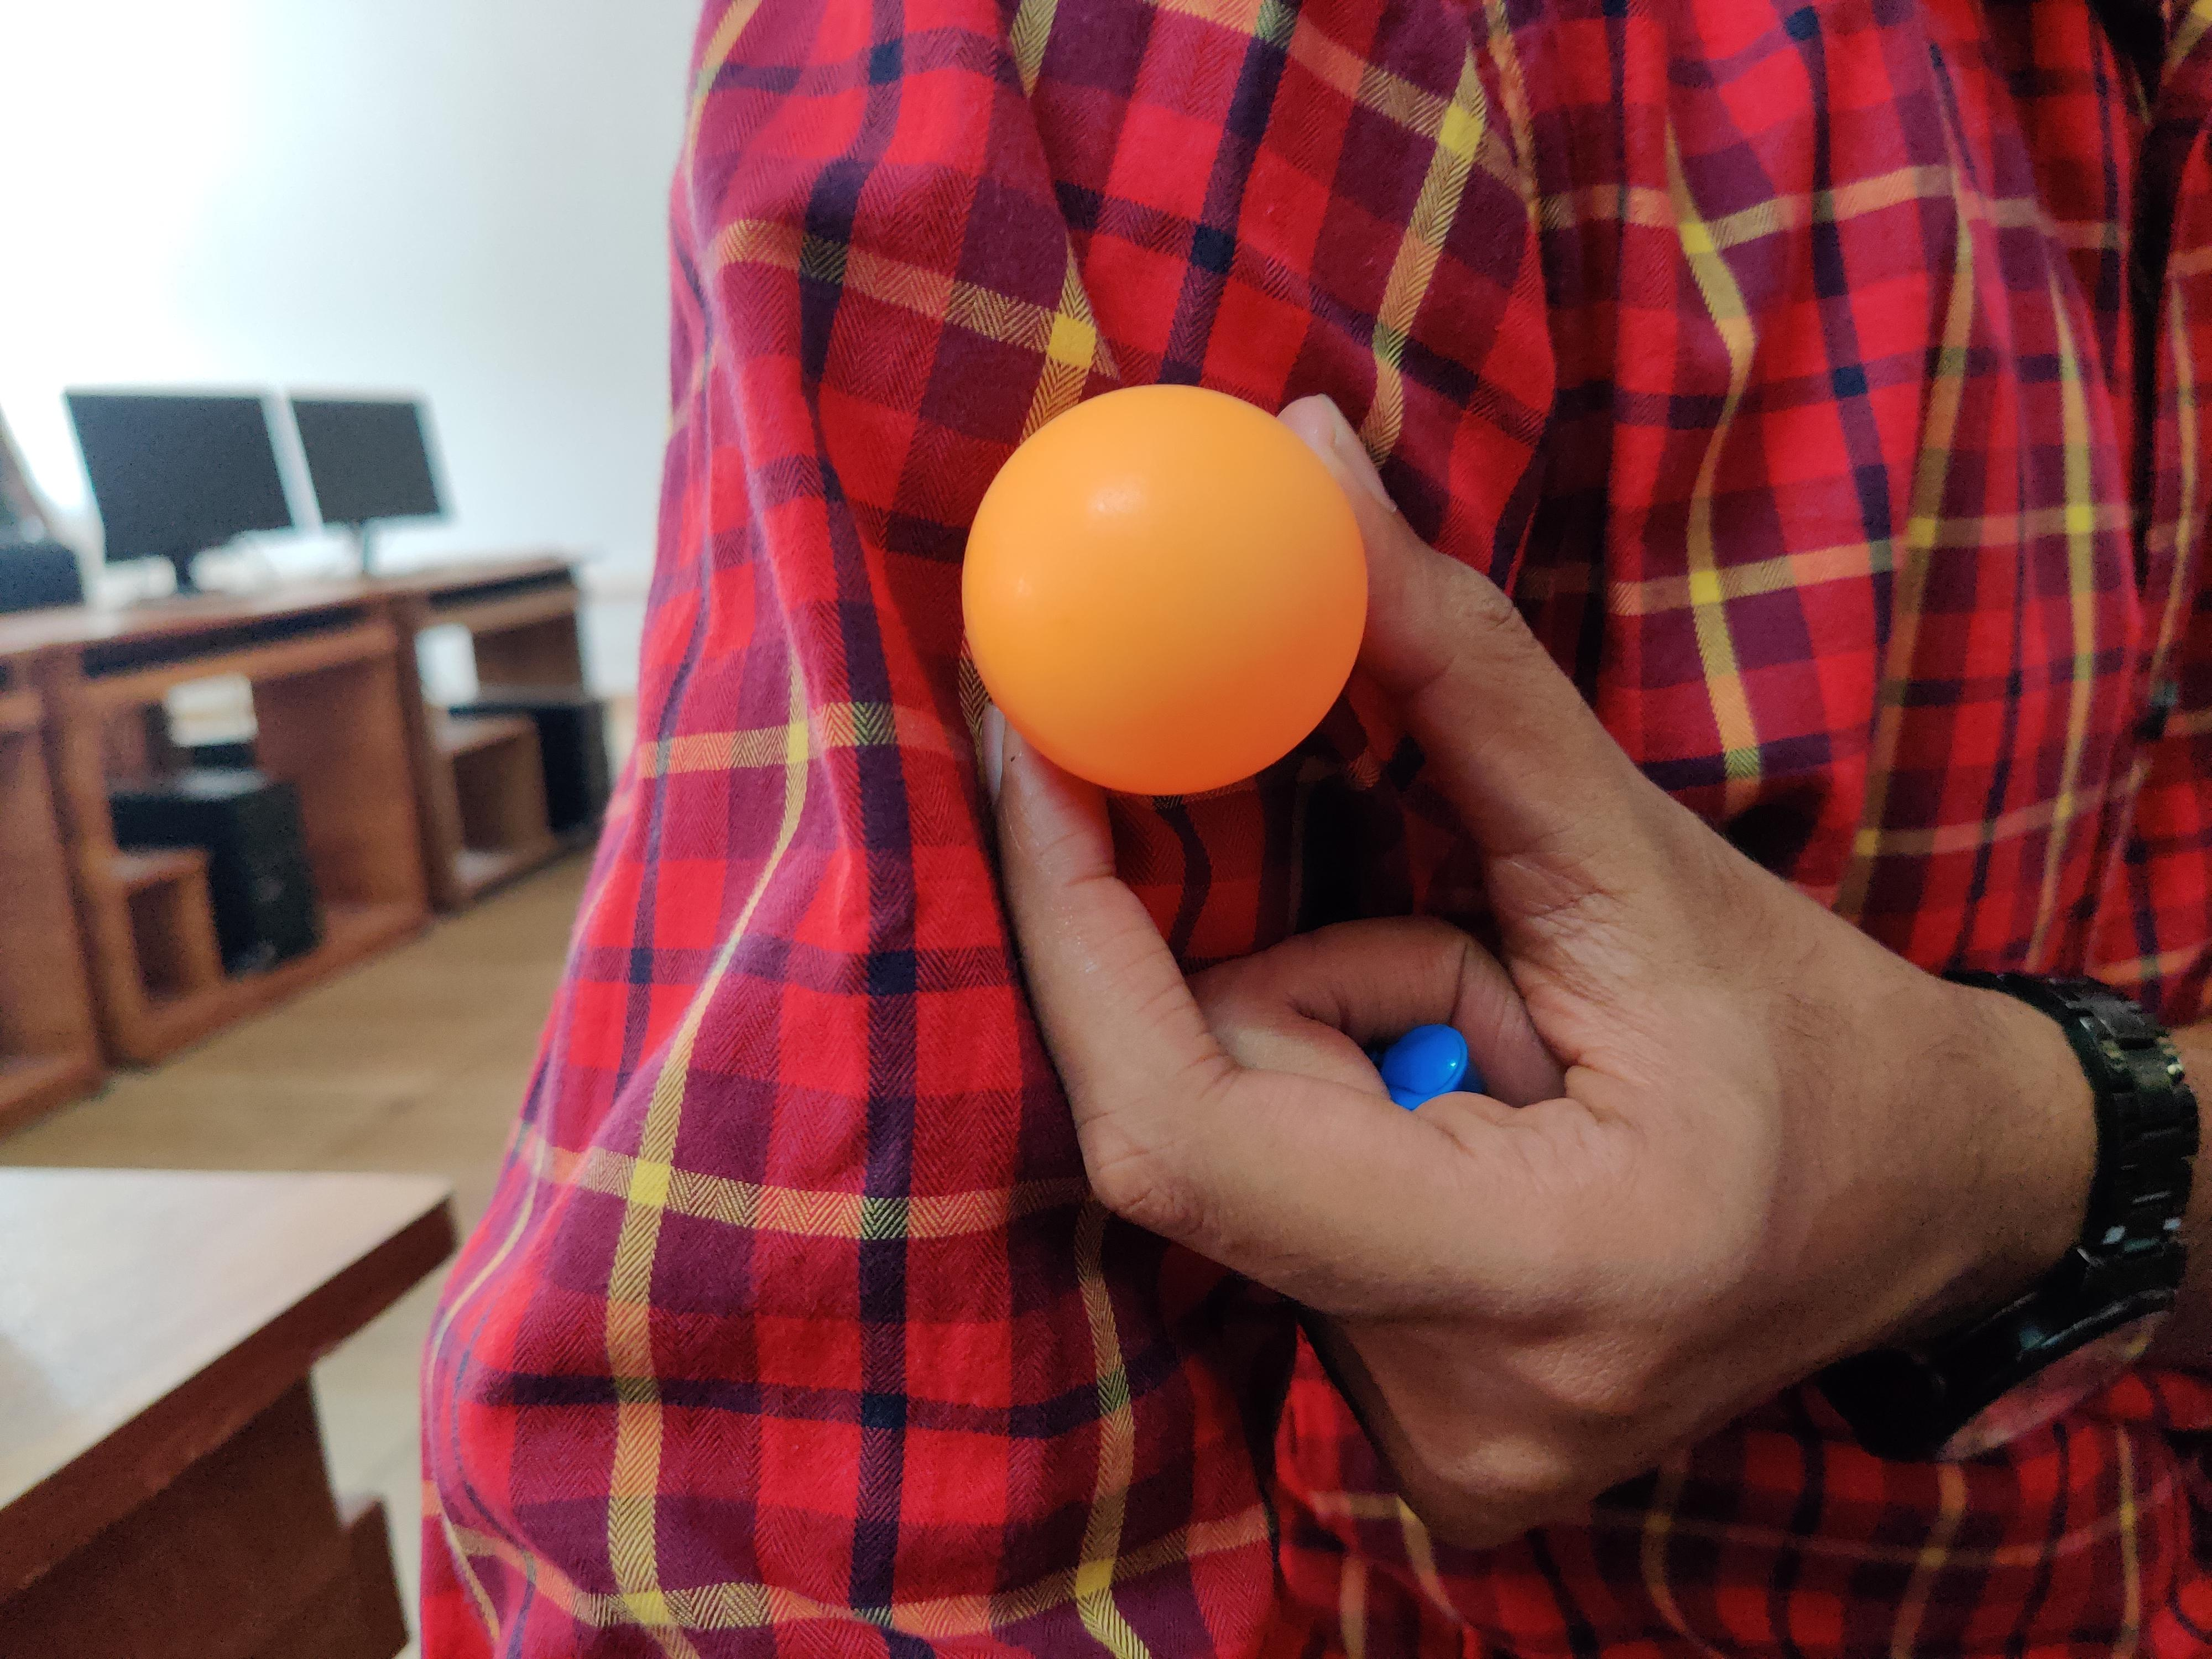orange: (960, 382, 1371, 796)
